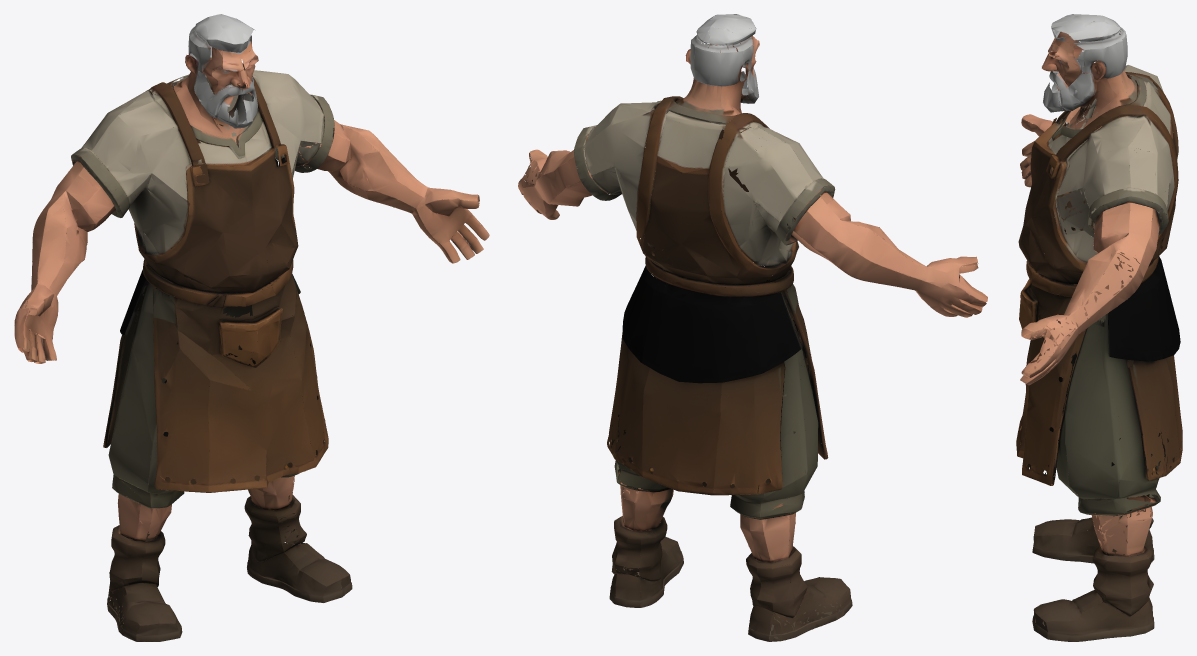
File: Blacksmith.fbx
3 views of the same model, side by side, from view 1: azimuth 30°, elevation 25°; view 2: azimuth 150°, elevation 25°; view 3: azimuth 270°, elevation 25° (orthographic).
Parts seen in each view (by area): view 1: Blacksmith_Model; view 2: Blacksmith_Model; view 3: Blacksmith_Model.
Part boxes in pixels (box(x1,y1,x2,y2)): Blacksmith_Model: box(14, 14, 489, 641); Blacksmith_Model: box(518, 14, 987, 641); Blacksmith_Model: box(1016, 14, 1182, 641).
Size of the model in its own units: 145 by 172 by 45.22.
1 material, 1 textured.
